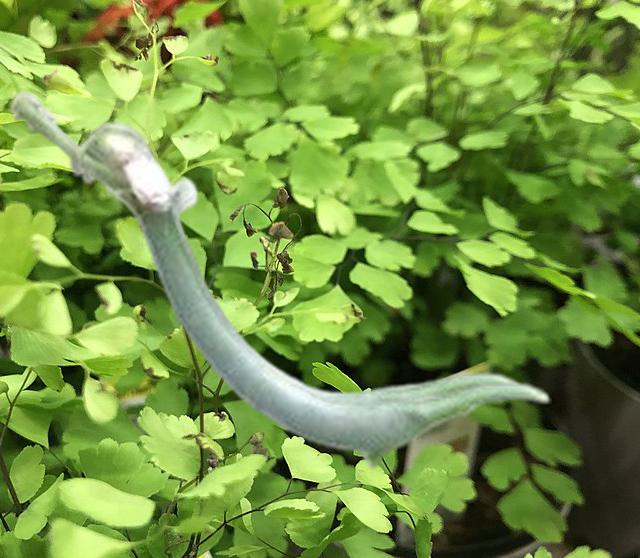french_bean: (8, 88, 550, 469), (24, 103, 520, 401)
